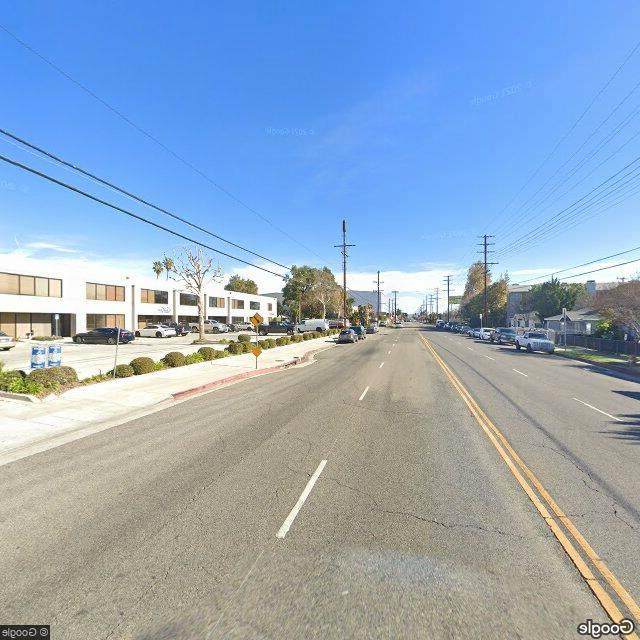crack: (286, 454, 544, 542), (543, 427, 629, 523), (143, 462, 234, 539), (521, 503, 627, 529)
